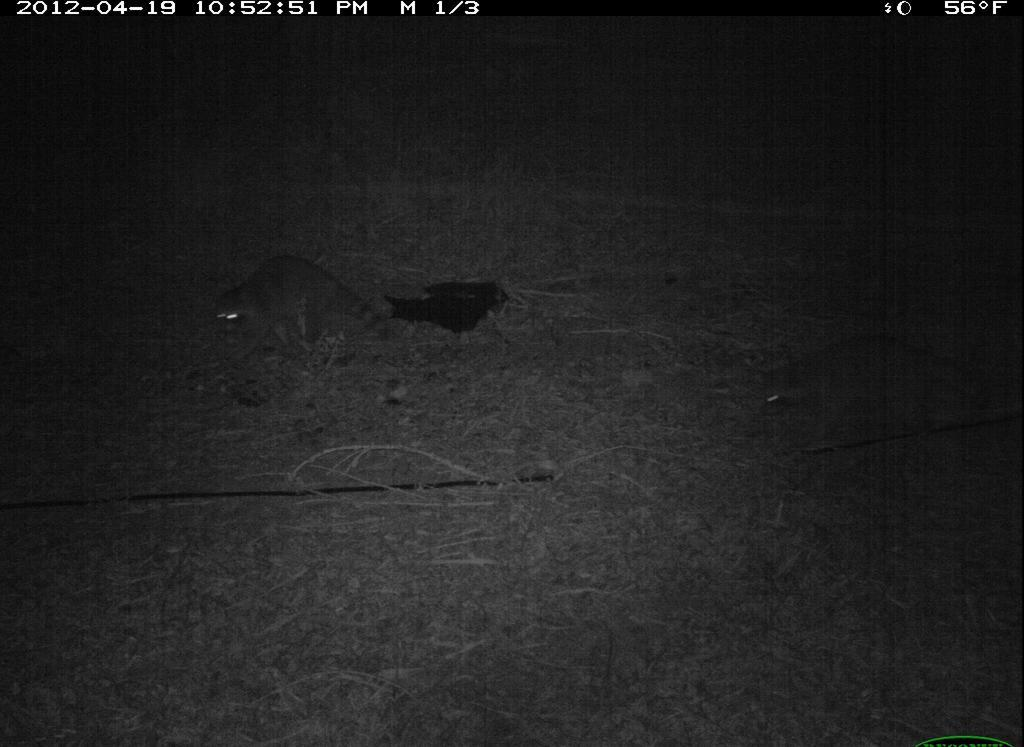raccoon: (203, 245, 396, 373)
